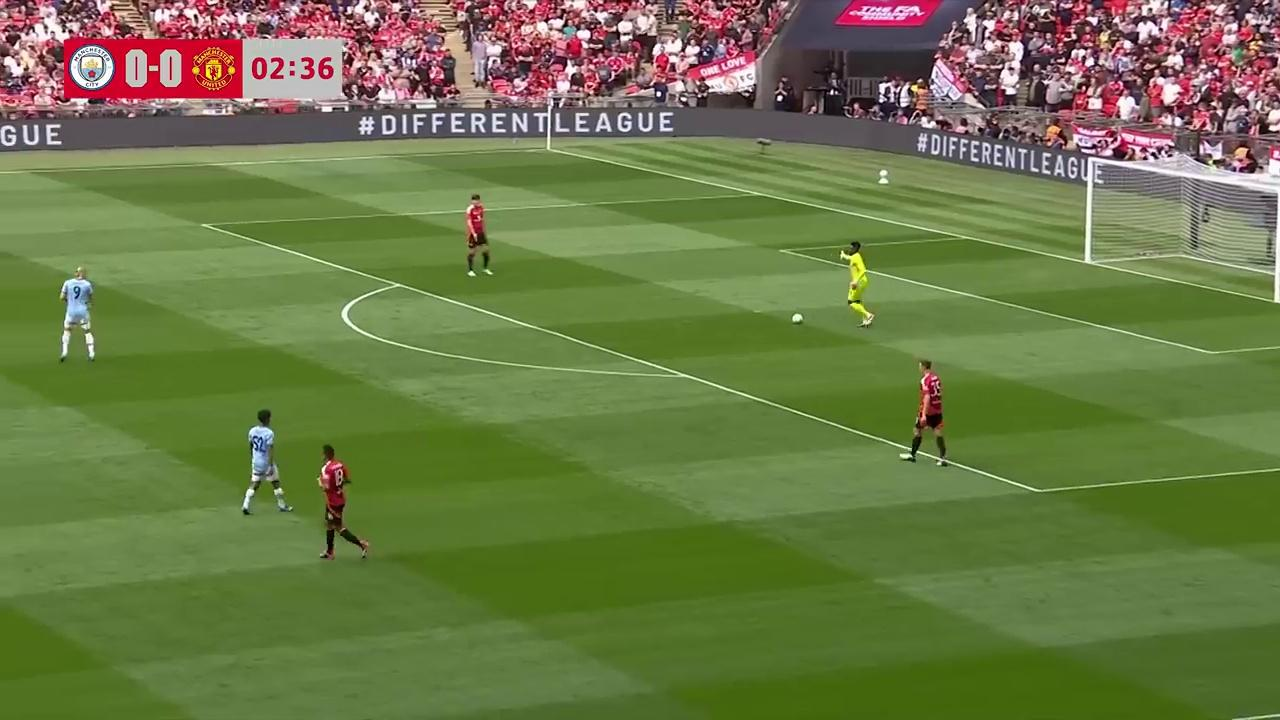ball: (790, 309, 804, 325)
player: (317, 445, 369, 562), (241, 409, 292, 516), (904, 360, 948, 465), (58, 266, 95, 364), (843, 241, 874, 328), (465, 194, 492, 276)
